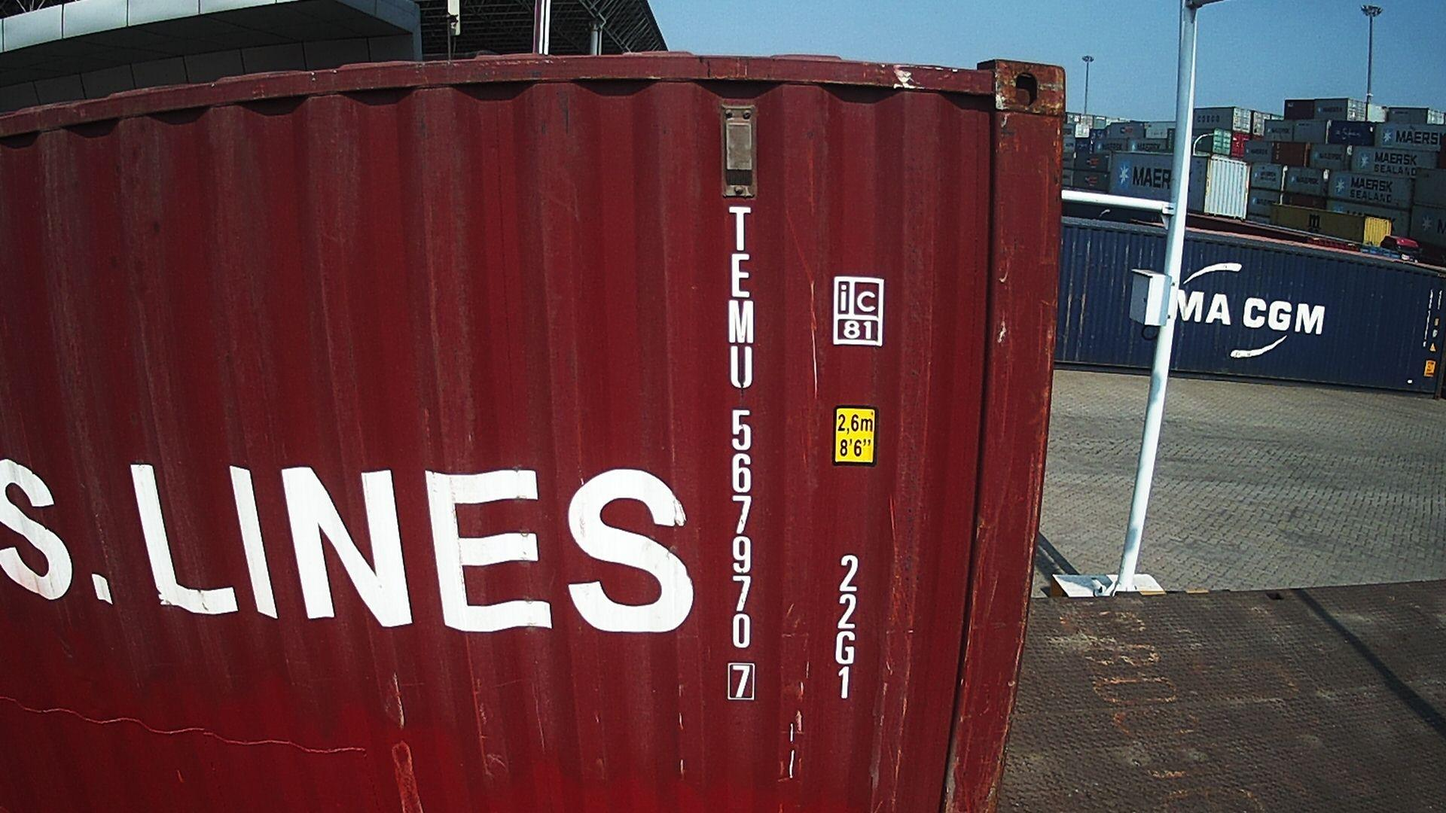container-numbers: (720, 202, 764, 702), (829, 548, 864, 704)
